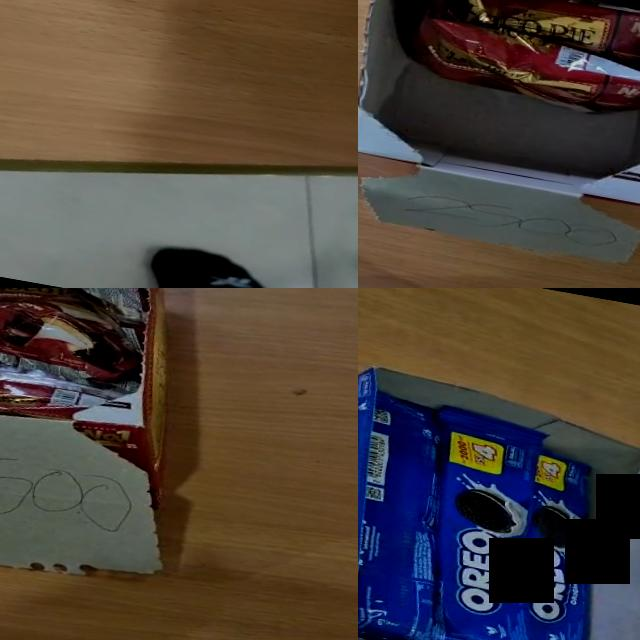Chocopie: (401, 11, 640, 127), (421, 0, 640, 74), (0, 288, 138, 381), (0, 299, 137, 379), (0, 367, 120, 418), (71, 288, 145, 327)
Oreo: (395, 402, 573, 640), (358, 390, 471, 640), (501, 446, 622, 640)
